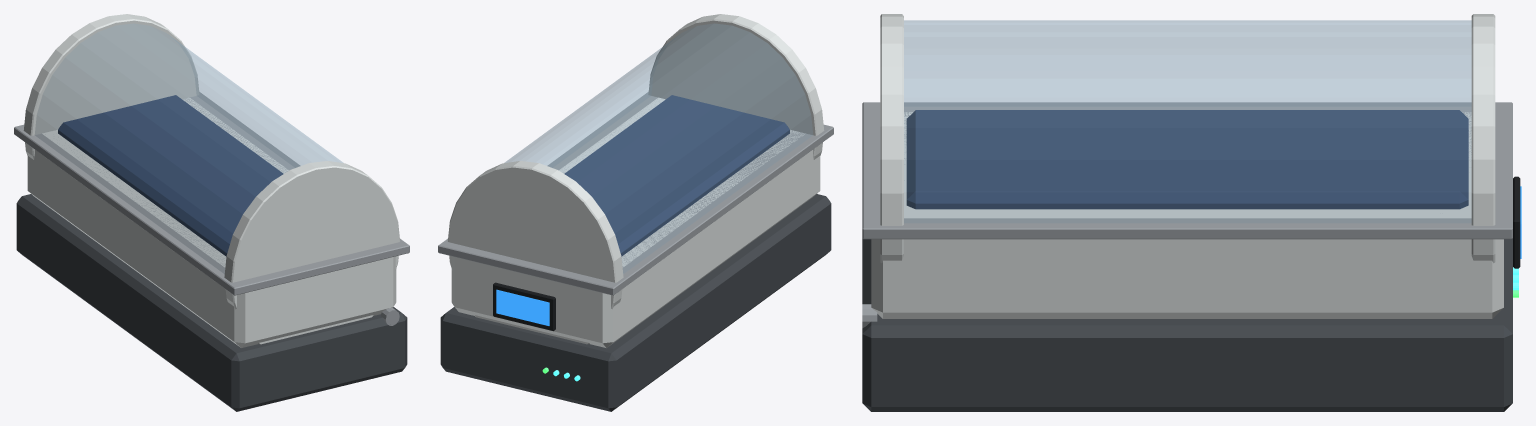
Rendered from cryo_pod.glb.
3 renders of one model, left to right at view 1: azimuth 30°, elevation 25°; view 2: azimuth 150°, elevation 25°; view 3: azimuth 270°, elevation 25°, orthographic. The views are drawn at different scales.
Visible parts, largest first — view 1: cryo_pod; view 2: cryo_pod; view 3: cryo_pod.
Boxes of the visible parts, x1,y1,x2,y2 form: cryo_pod: (14, 14, 409, 411); cryo_pod: (438, 14, 833, 411); cryo_pod: (862, 14, 1521, 411).
Bounding box in the file's own units: 1 × 1.2 × 2.2.
